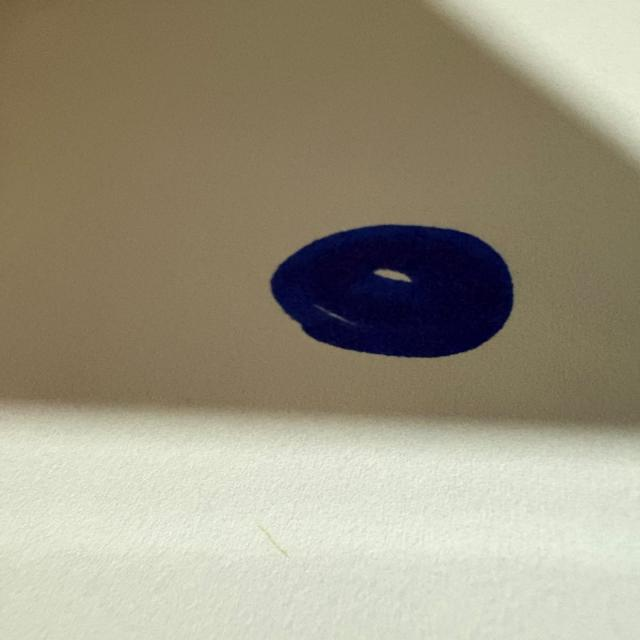Circle: (262, 218, 523, 364)
